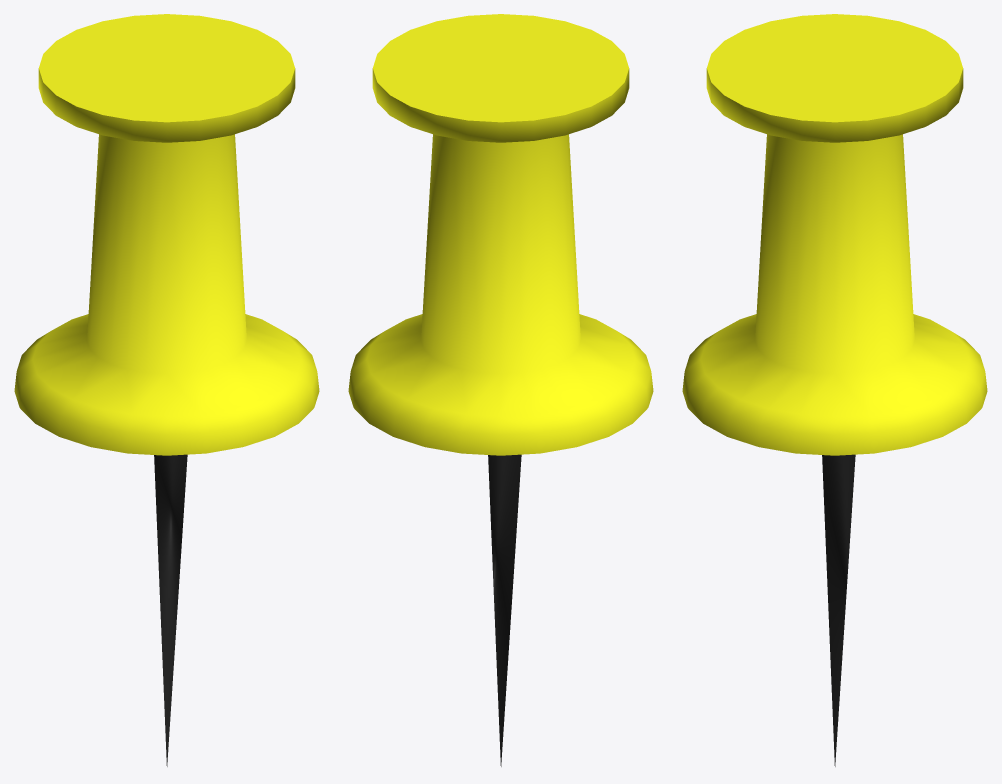
Rendered from pin4.obj.
3 views of the same model, side by side, from view 1: azimuth 30°, elevation 25°; view 2: azimuth 150°, elevation 25°; view 3: azimuth 270°, elevation 25° (orthographic).
Parts seen in each view (by area): view 1: Circle_Circle.001; view 2: Circle_Circle.001; view 3: Circle_Circle.001.
Part boxes in pixels (x1,y1,x2,y2): Circle_Circle.001: (14, 14, 319, 766); Circle_Circle.001: (348, 14, 653, 766); Circle_Circle.001: (682, 14, 987, 766).
Bounding box in the file's own units: 0.2877 × 0.7304 × 0.2877.
